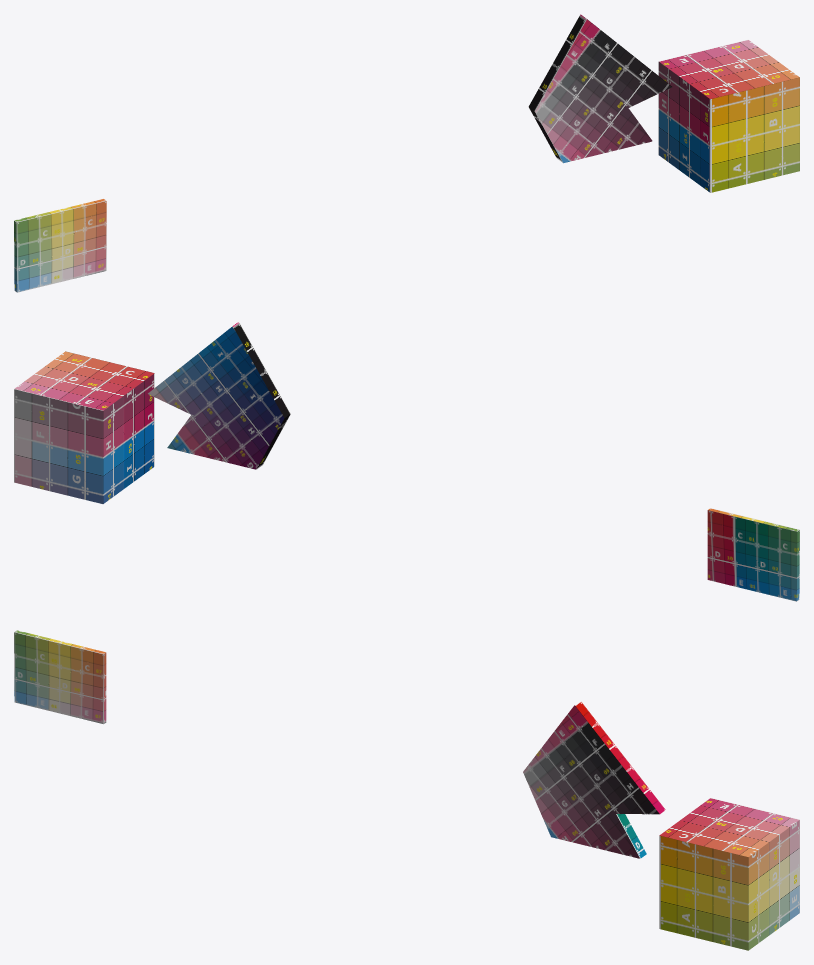
Rendered from munchen.glb.
3 views of the same model, one above another, from view 1: azimuth 30°, elevation 25°; view 2: azimuth 150°, elevation 25°; view 3: azimuth 330°, elevation 25° (orthographic).
Visible parts, largest first — view 1: Cube, BezierCurve, TestPanel0; view 2: Cube, BezierCurve, TestPanel0; view 3: Cube, BezierCurve, TestPanel0.
Boxes of the visible parts, left/top/right/bottom form: Cube: left=658, top=39, right=799, bottom=192; BezierCurve: left=528, top=14, right=671, bottom=163; TestPanel0: left=14, top=199, right=106, bottom=292; Cube: left=14, top=351, right=154, bottom=503; BezierCurve: left=148, top=321, right=290, bottom=469; TestPanel0: left=707, top=508, right=799, bottom=601; Cube: left=659, top=798, right=799, bottom=950; BezierCurve: left=523, top=700, right=666, bottom=858; TestPanel0: left=14, top=630, right=106, bottom=724.
Size of the model in its own units: 16.98 by 3.95 by 2.
Materials: 3 (3 with a texture image).
